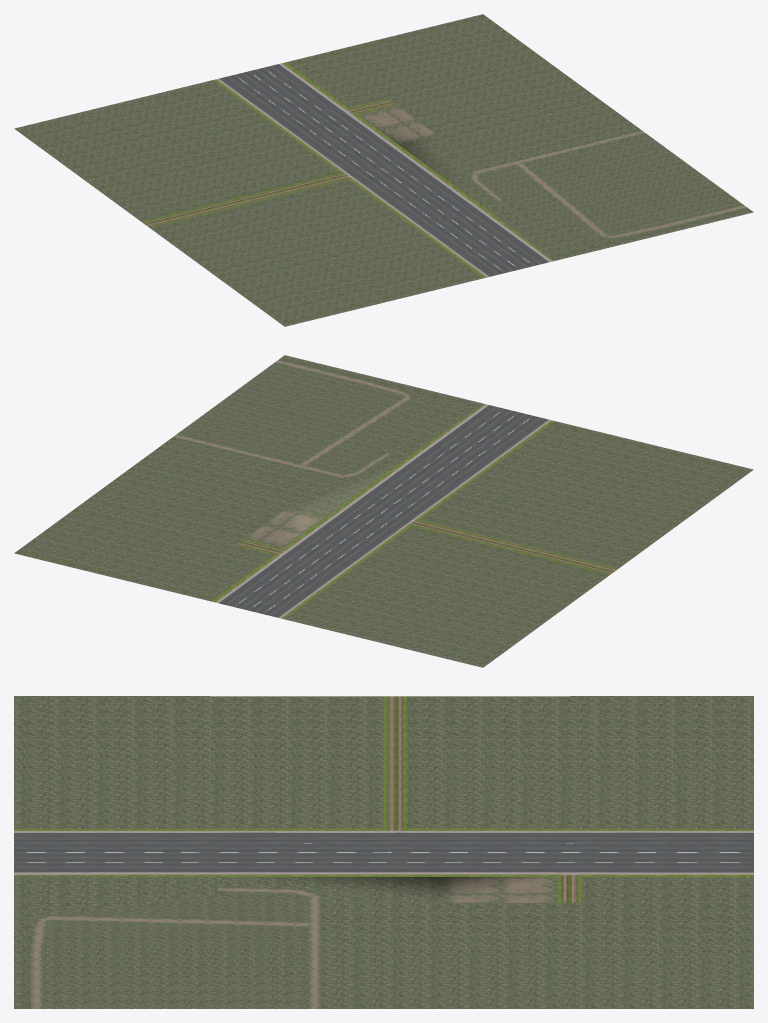
File: road2.FBX
The picture shows the model from 3 angles, top to bottom: view 1: azimuth 30°, elevation 25°; view 2: azimuth 150°, elevation 25°; view 3: azimuth 270°, elevation 25°; orthographic projection. The views are drawn at different scales.
Parts seen in each view (by area): view 1: road; view 2: road; view 3: road.
Part boxes in pixels (bbox=[...]): road: bbox=[14, 14, 753, 326]; road: bbox=[14, 355, 753, 667]; road: bbox=[14, 696, 753, 1008].
Size of the model in its own units: 12000 by 8.08 by 12000.
